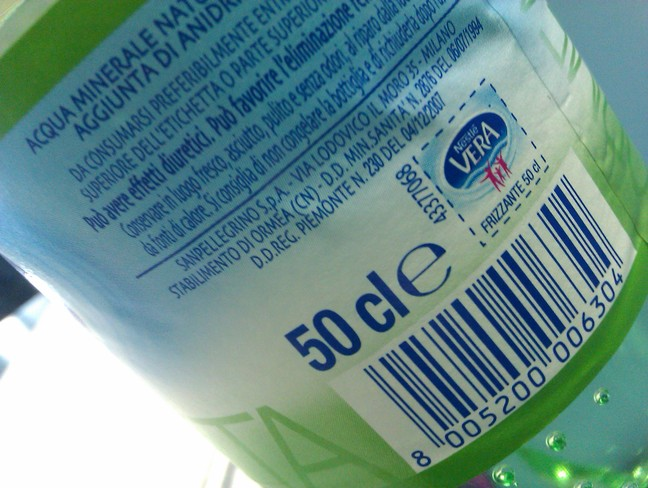barcode: (367, 169, 634, 472)
